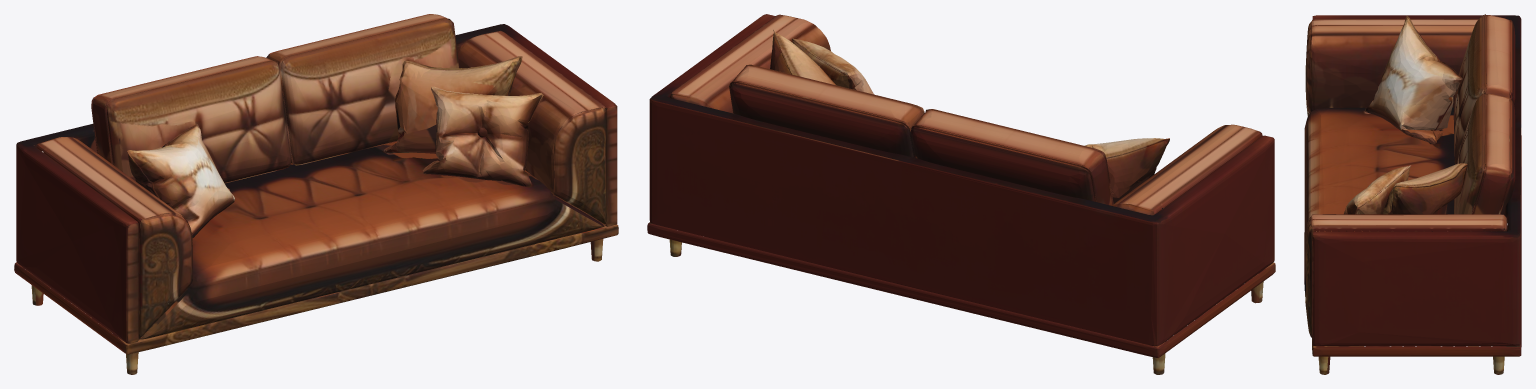
The model's file is edited_mesh.glb.
The picture shows the model from 3 angles, left to right: view 1: azimuth 30°, elevation 25°; view 2: azimuth 150°, elevation 25°; view 3: azimuth 270°, elevation 25°; orthographic projection. The views are drawn at different scales.
Visible parts, largest first — view 1: solid_001_wire; view 2: solid_001_wire; view 3: solid_001_wire.
Boxes of the visible parts, x1,y1,x2,y2 form: solid_001_wire: (14, 14, 618, 374); solid_001_wire: (647, 14, 1275, 374); solid_001_wire: (1304, 14, 1521, 374).
Bounding box in the file's own units: 2 × 0.7464 × 0.8192.
1 material, 1 textured.
